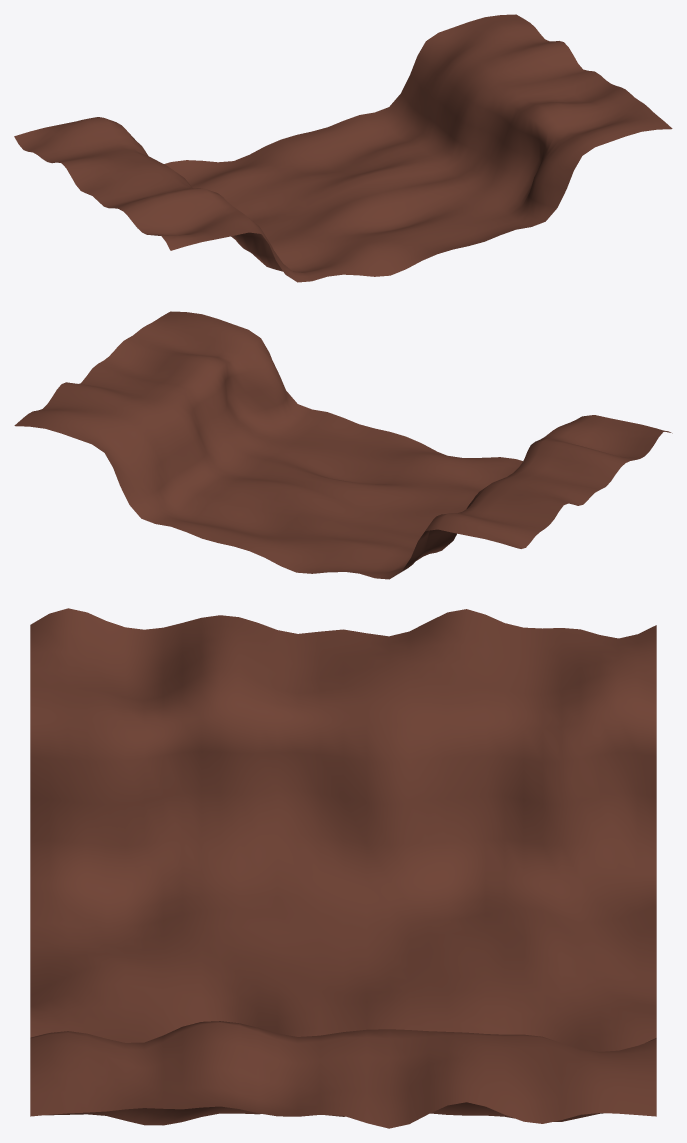
The model's file is Ground.fbx.
The picture shows the model from 3 angles, top to bottom: view 1: azimuth 30°, elevation 25°; view 2: azimuth 150°, elevation 25°; view 3: azimuth 270°, elevation 25°; orthographic projection. The views are drawn at different scales.
Parts seen in each view (by area): view 1: Plane; view 2: Plane; view 3: Plane.
Boxes of the visible parts, x1,y1,x2,y2 form: Plane: [14, 14, 672, 282]; Plane: [14, 311, 672, 579]; Plane: [30, 608, 656, 1128].
Size of the model in its own units: 2000 by 338 by 1080.
